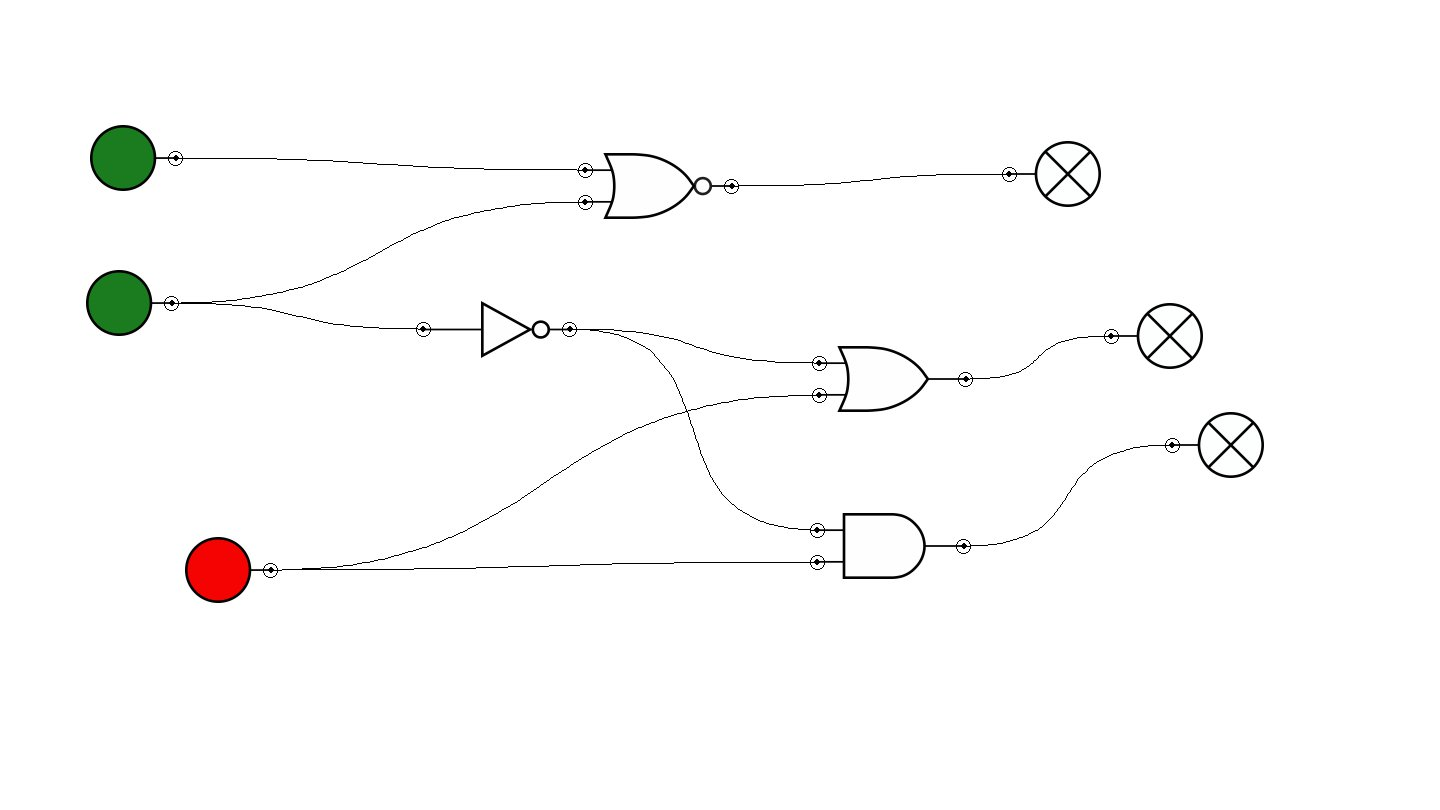and: (810, 513, 971, 579)
bulb: (1002, 141, 1101, 207), (1104, 303, 1203, 369), (1165, 412, 1264, 478)
nor: (578, 153, 739, 219)
not: (416, 301, 577, 358)
or: (812, 346, 973, 412)
switch_False: (185, 537, 278, 603)
switch_True: (86, 270, 179, 336), (90, 125, 183, 191)
